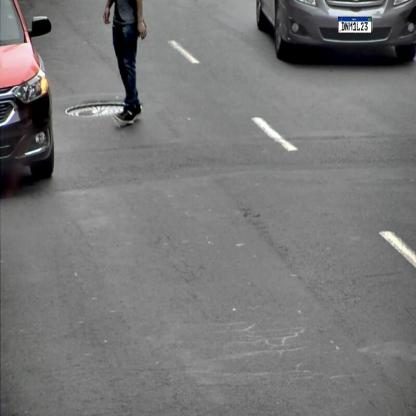PlacaM: (338, 17, 372, 33)
